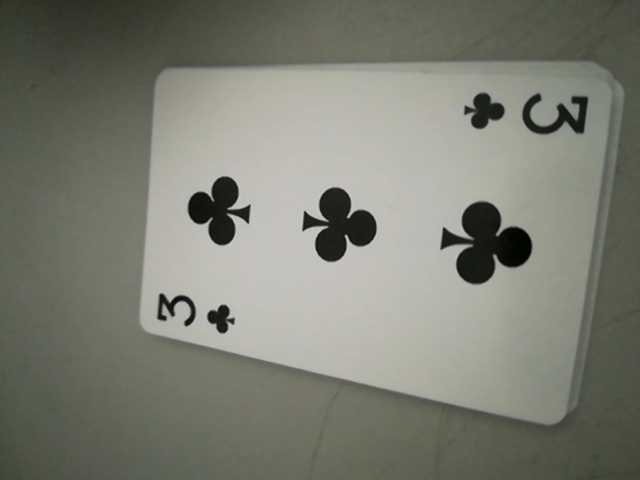mh 3: (461, 84, 591, 144), (151, 286, 243, 340)
